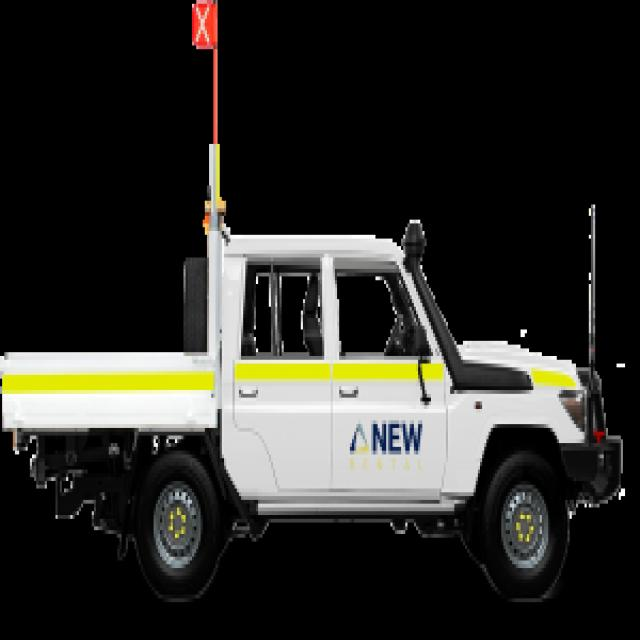light_vehicle: (0, 186, 625, 610)
